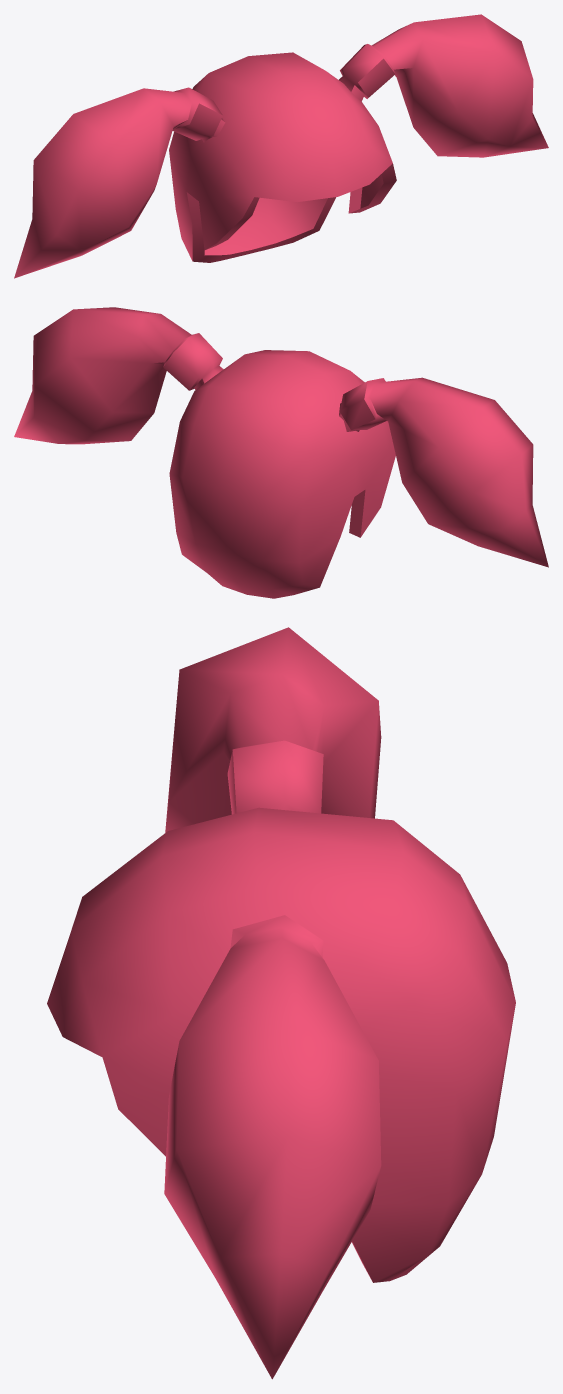
The model's file is Hair_6.FBX.
The picture shows the model from 3 angles, top to bottom: view 1: azimuth 30°, elevation 25°; view 2: azimuth 150°, elevation 25°; view 3: azimuth 270°, elevation 25°; orthographic projection. The views are drawn at different scales.
Visible parts, largest first — view 1: Hair_6; view 2: Hair_6; view 3: Hair_6.
Boxes of the visible parts, x1,y1,x2,y2 form: Hair_6: [14, 14, 548, 278]; Hair_6: [14, 307, 548, 598]; Hair_6: [47, 627, 515, 1379].
Size of the model in its own units: 0.5553 by 0.2212 by 0.2109.
